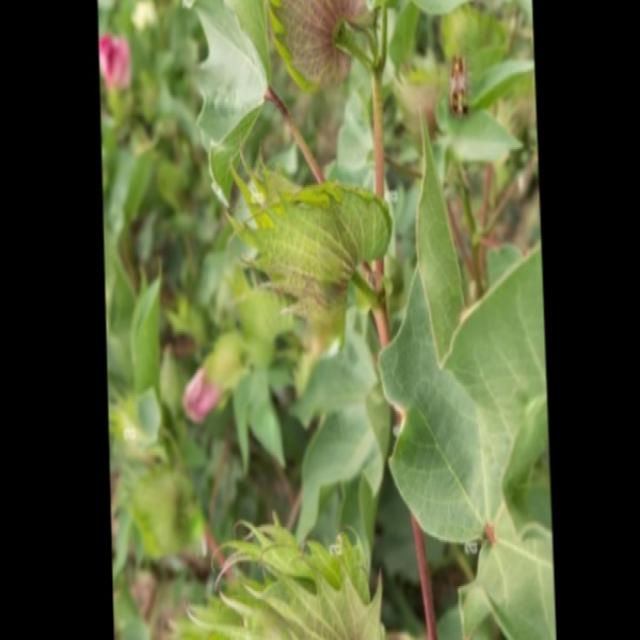Cotton Blossom: (180, 314, 253, 419), (100, 33, 144, 115)
Cotton Bud: (224, 154, 396, 325), (185, 525, 386, 640), (258, 0, 382, 93)
